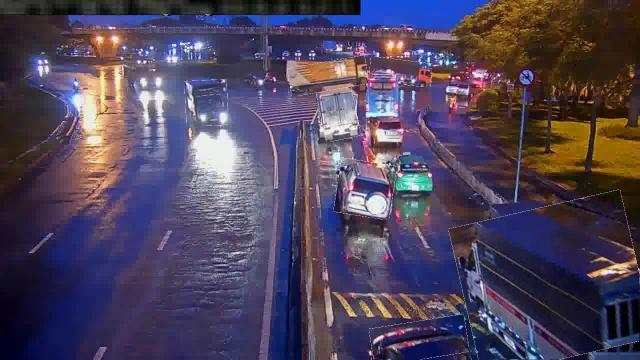Bus: (368, 75, 404, 121)
Car: (370, 317, 470, 359), (336, 160, 396, 218), (366, 116, 402, 142)
Truck: (456, 198, 640, 360), (288, 58, 368, 94), (317, 81, 358, 141), (185, 80, 228, 126), (368, 58, 432, 86)
